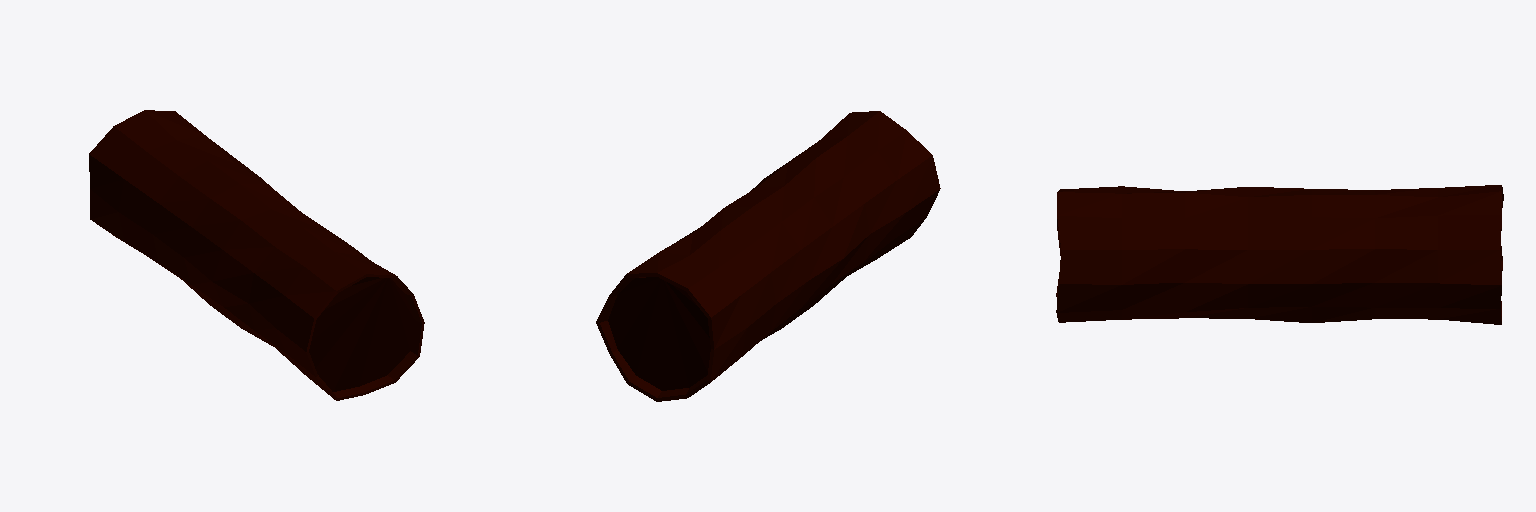
The model's file is wood.obj.
3 renders of one model, left to right at view 1: azimuth 30°, elevation 25°; view 2: azimuth 150°, elevation 25°; view 3: azimuth 270°, elevation 25°, orthographic.
Visible parts, largest first — view 1: Cylinder; view 2: Cylinder; view 3: Cylinder.
Boxes of the visible parts, box(x1,y1,x2,y2) form: Cylinder: box(89, 110, 424, 400); Cylinder: box(596, 111, 940, 401); Cylinder: box(1056, 185, 1503, 324).
Bounding box in the file's own units: 0.577 × 0.5825 × 1.83.